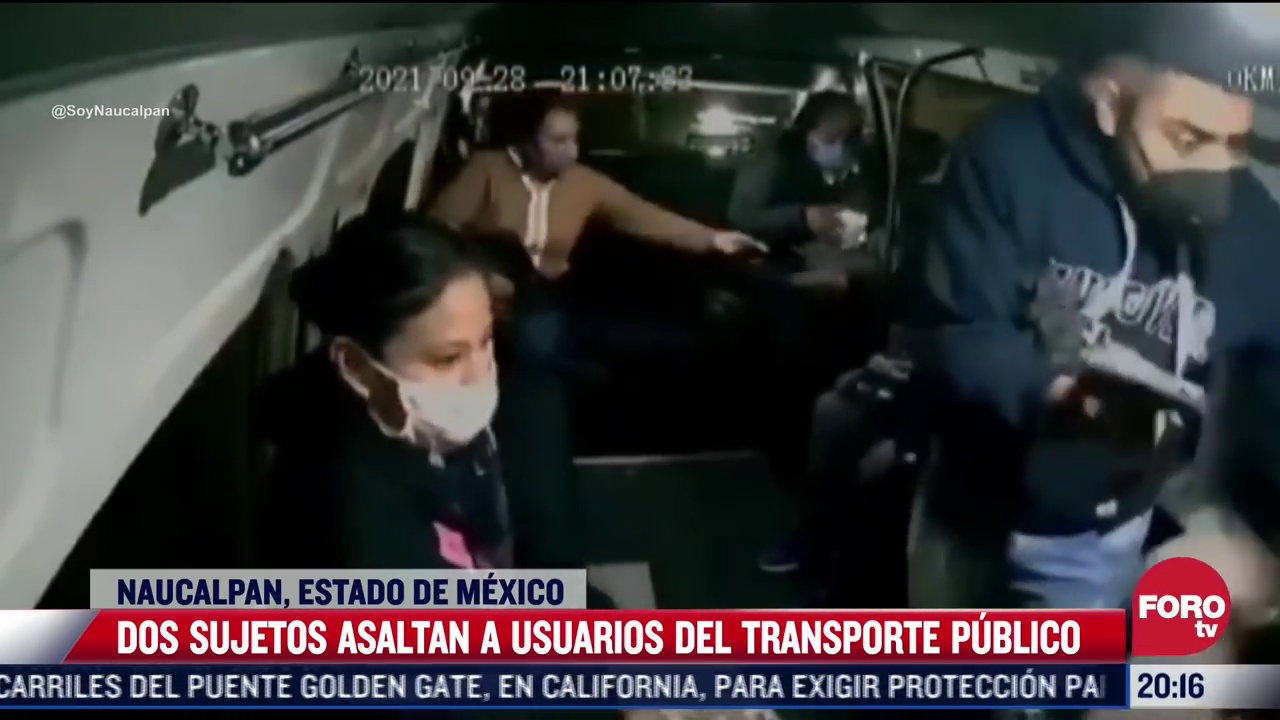pistol: (1077, 345, 1209, 425)
